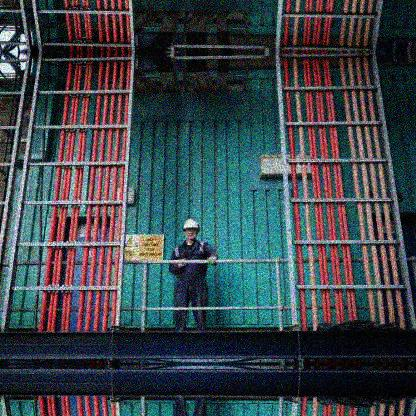helmet: (182, 219, 200, 243)
